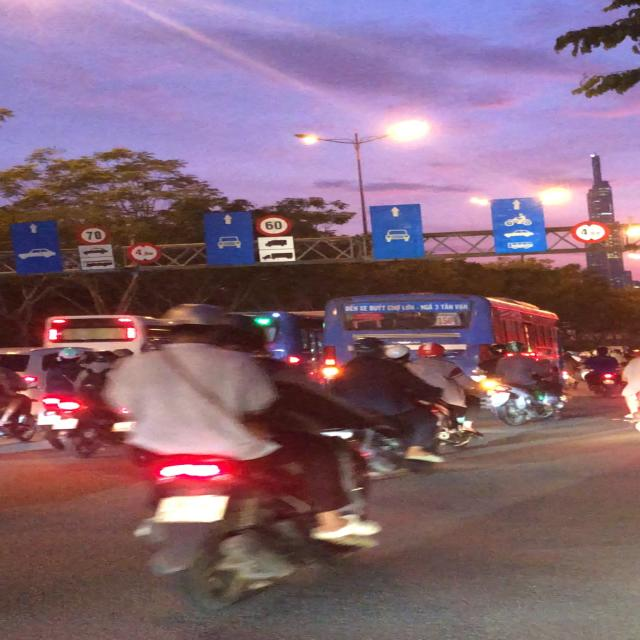Bien bao han che chieu cao: (568, 218, 610, 246), (124, 242, 163, 266)
Bien bao toc do toi da cho phep: (251, 213, 293, 237), (75, 222, 111, 246)
